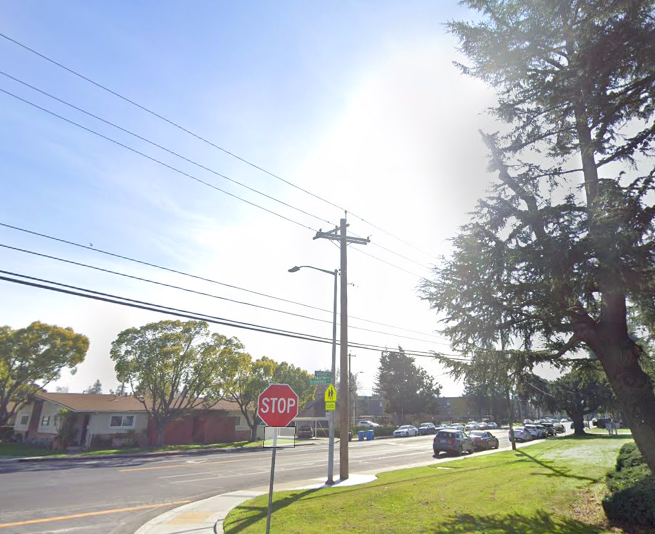utility_pole: (306, 214, 373, 261)
